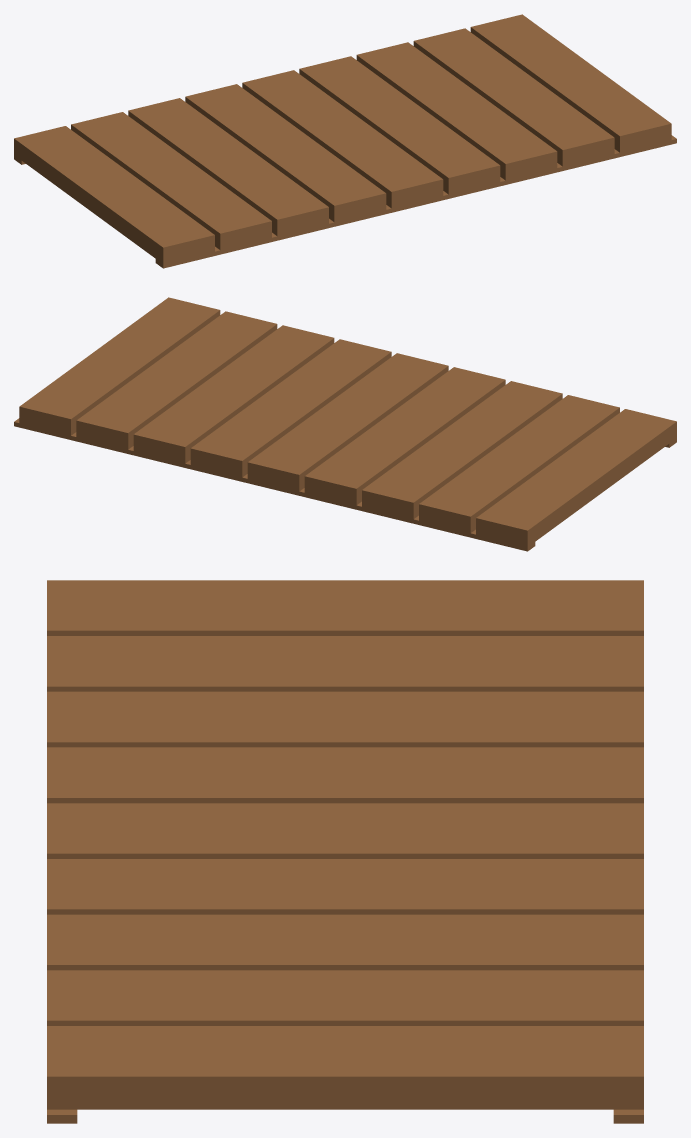
Rendered from BridgeA.fbx.
3 views of the same model, one above another, from view 1: azimuth 30°, elevation 25°; view 2: azimuth 150°, elevation 25°; view 3: azimuth 270°, elevation 25° (orthographic). The views are drawn at different scales.
Visible parts, largest first — view 1: Bridge; view 2: Bridge; view 3: Bridge.
Boxes of the visible parts, x1,y1,x2,y2 form: Bridge: (14, 14, 676, 268); Bridge: (14, 297, 676, 551); Bridge: (47, 580, 643, 1123).
Size of the model in its own units: 795 by 30.96 by 400.
